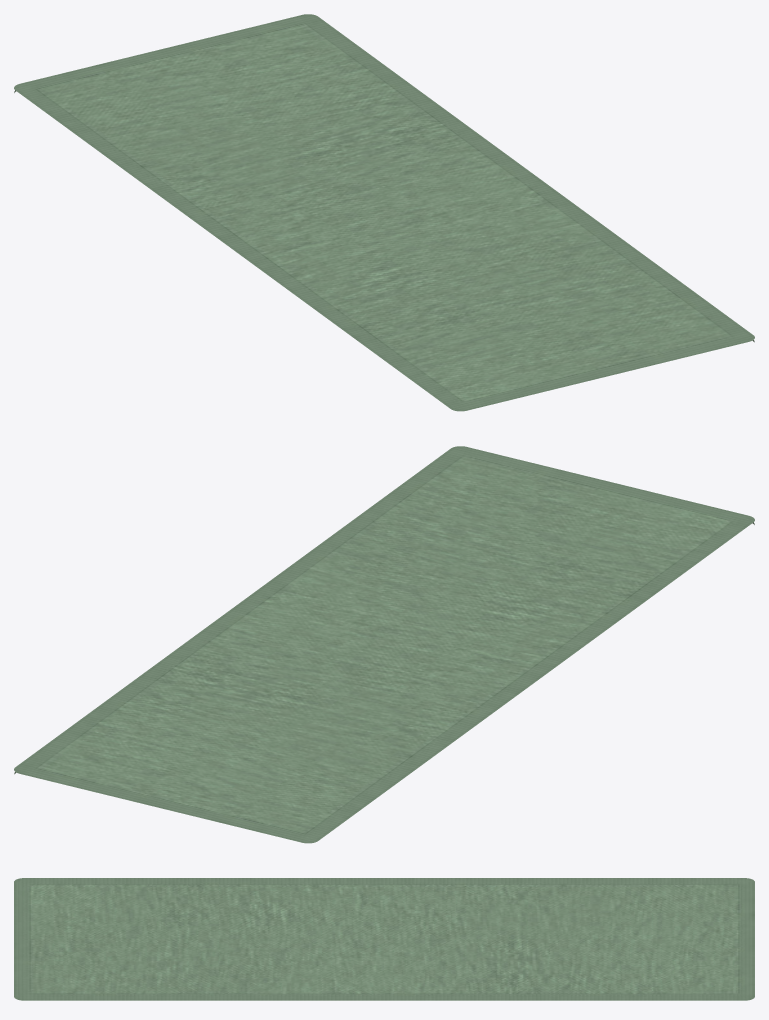
Rendered from green_kitchen.glb.
The picture shows the model from 3 angles, top to bottom: view 1: azimuth 30°, elevation 25°; view 2: azimuth 150°, elevation 25°; view 3: azimuth 270°, elevation 25°; orthographic projection. The views are drawn at different scales.
Visible parts, largest first — view 1: reliv_green_kitchen; view 2: reliv_green_kitchen; view 3: reliv_green_kitchen.
Boxes of the visible parts, bbox=[...] form: reliv_green_kitchen: bbox=[14, 14, 754, 411]; reliv_green_kitchen: bbox=[14, 446, 754, 843]; reliv_green_kitchen: bbox=[14, 878, 754, 1000].
Bounding box in the file's own units: 0.45 × 0.009 × 1.15.
2 materials, 1 textured.
